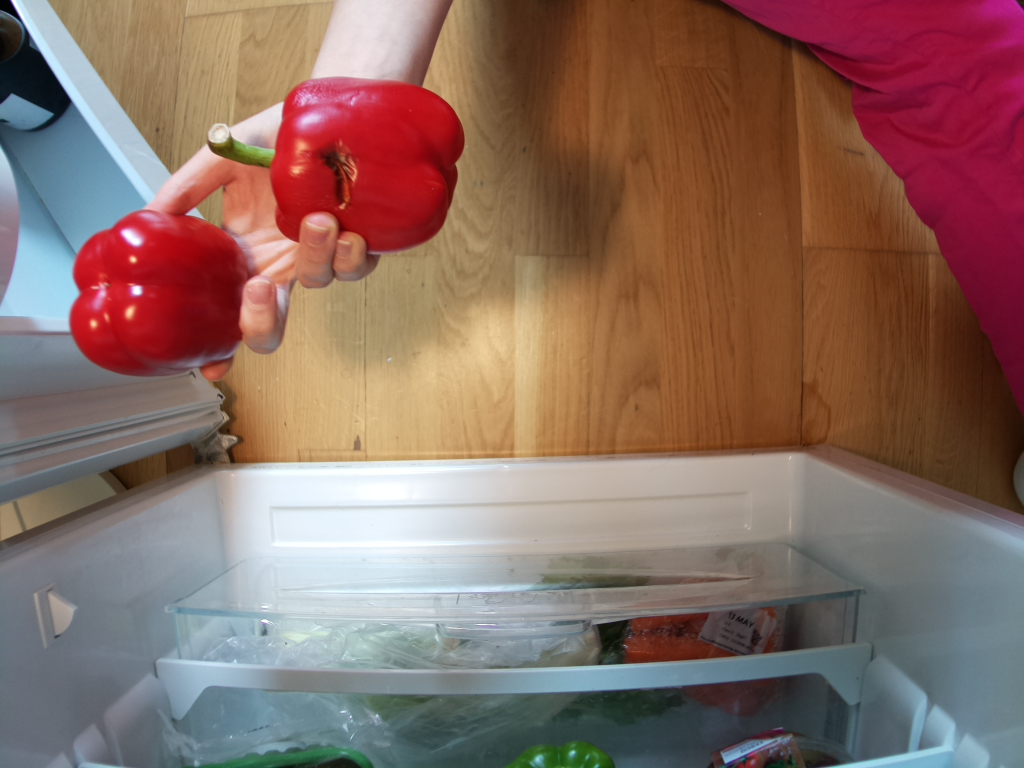pepper: (72, 210, 243, 378)
pepper-bad: (206, 78, 465, 250)
